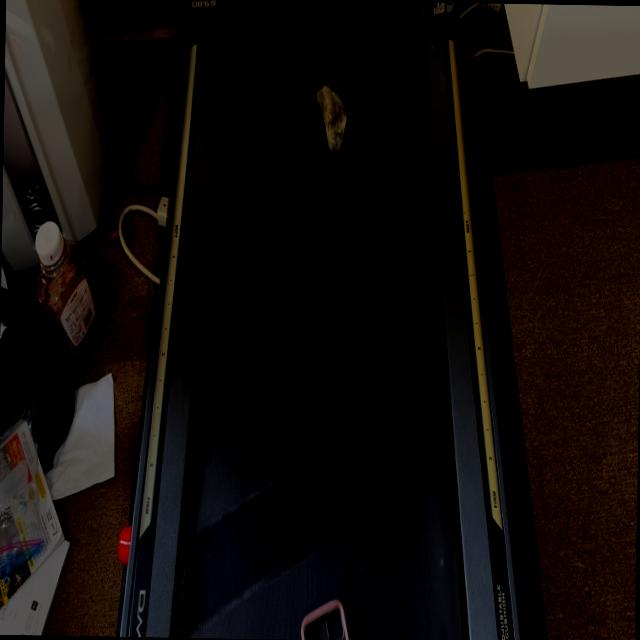Trash: (310, 70, 356, 159)
